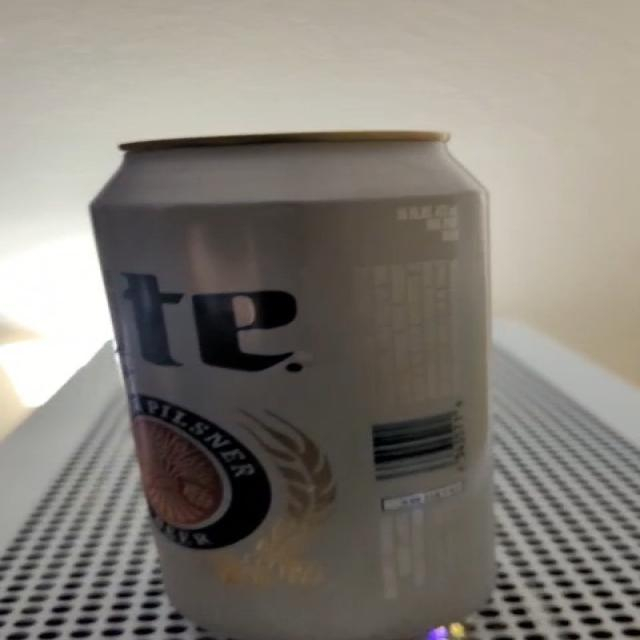can: (91, 134, 492, 640)
